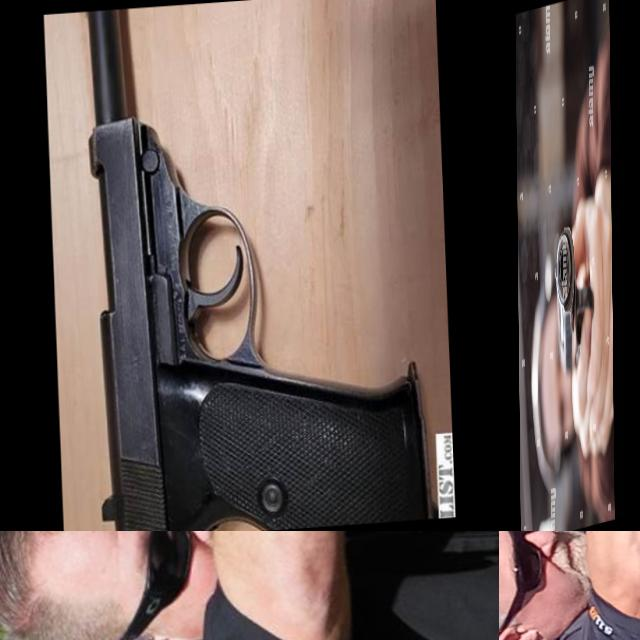handgun: (69, 0, 441, 531), (116, 531, 240, 630), (554, 213, 598, 385), (519, 531, 640, 565)
